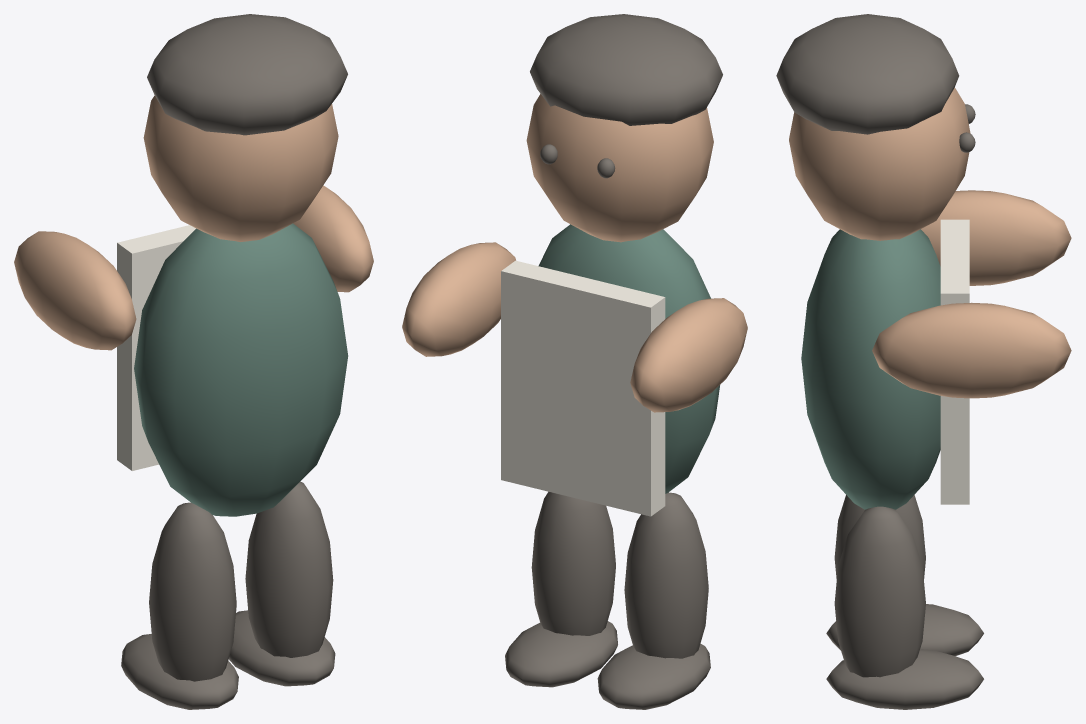
Rendered from neighbor-working.glb.
3 renders of one model, left to right at view 1: azimuth 30°, elevation 25°; view 2: azimuth 150°, elevation 25°; view 3: azimuth 270°, elevation 25°, orthographic. The views are drawn at different scales.
Bounding box in the file's own units: 0.82 × 1.72 × 0.71.
